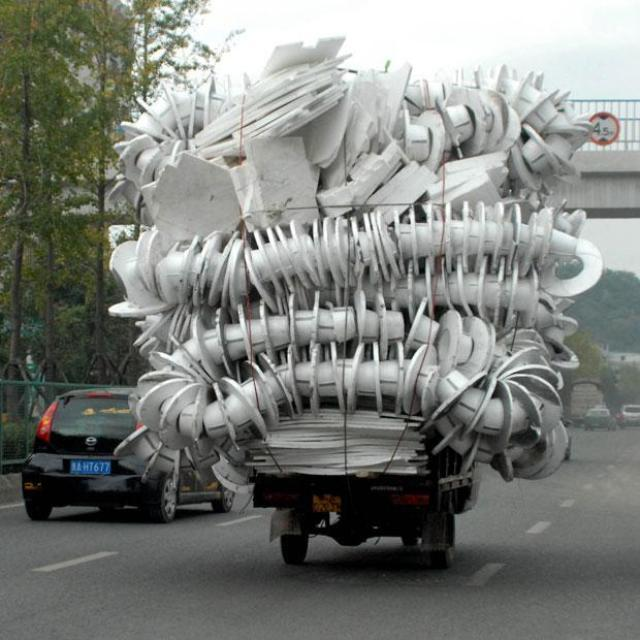uncovered: (85, 24, 608, 508)
